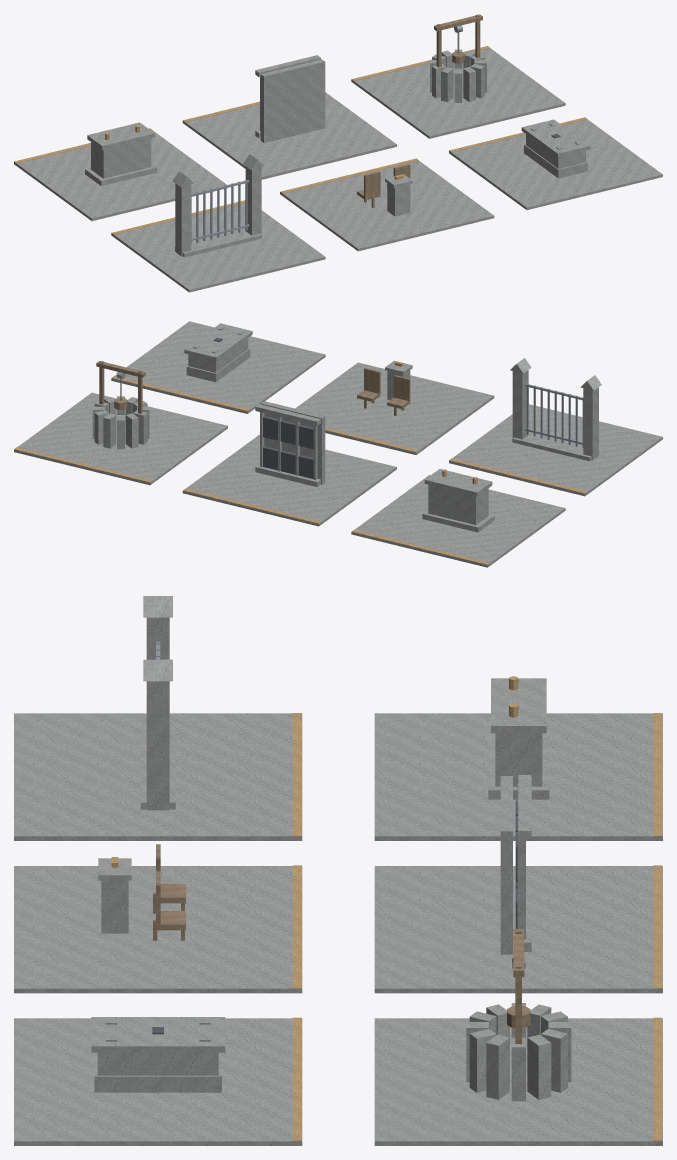
The model's file is level_blockout_kit_church_p02.glb.
3 views of the same model, one above another, from view 1: azimuth 30°, elevation 25°; view 2: azimuth 150°, elevation 25°; view 3: azimuth 270°, elevation 25° (orthographic). The views are drawn at different scales.
Parts seen in each view (by area): view 1: level_blockout_kit_church_p02; view 2: level_blockout_kit_church_p02; view 3: level_blockout_kit_church_p02.
Part boxes in pixels (bbox=[...]): level_blockout_kit_church_p02: bbox=[14, 14, 662, 292]; level_blockout_kit_church_p02: bbox=[14, 321, 662, 567]; level_blockout_kit_church_p02: bbox=[14, 596, 662, 1145].
Size of the model in its own units: 19.65 by 3.25 by 12.6.
6 materials, 6 textured.
